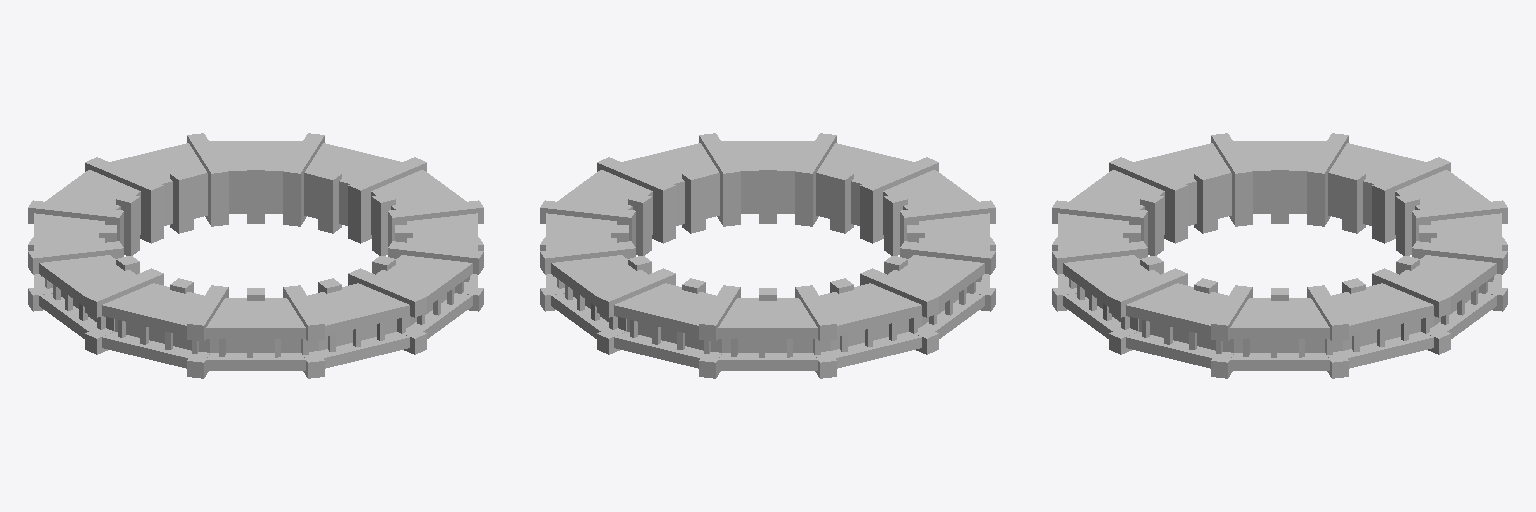
The model's file is colossal_cogwheel.obj.
3 renders of one model, left to right at view 1: azimuth 30°, elevation 25°; view 2: azimuth 150°, elevation 25°; view 3: azimuth 270°, elevation 25°, orthographic.
Visible parts, largest first — view 1: colossal_cogwheel; view 2: colossal_cogwheel; view 3: colossal_cogwheel.
Part boxes in pixels (x1,y1,x2,y2): colossal_cogwheel: (28,133,483,378); colossal_cogwheel: (540,133,995,378); colossal_cogwheel: (1052,133,1507,378).
Size of the model in its own units: 4.82 by 0.625 by 4.82.